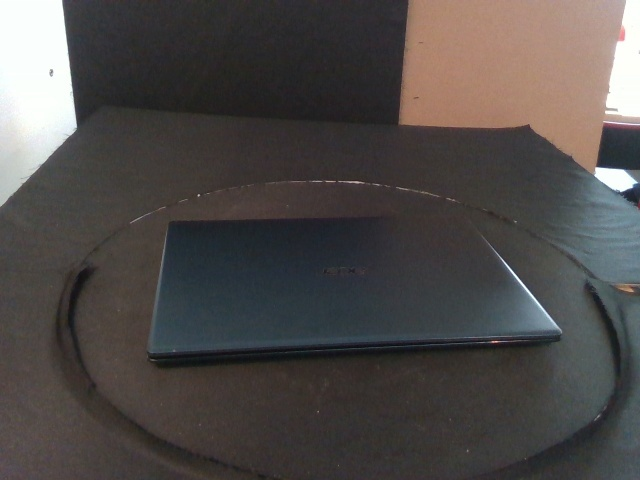laptop: (146, 213, 562, 369)
